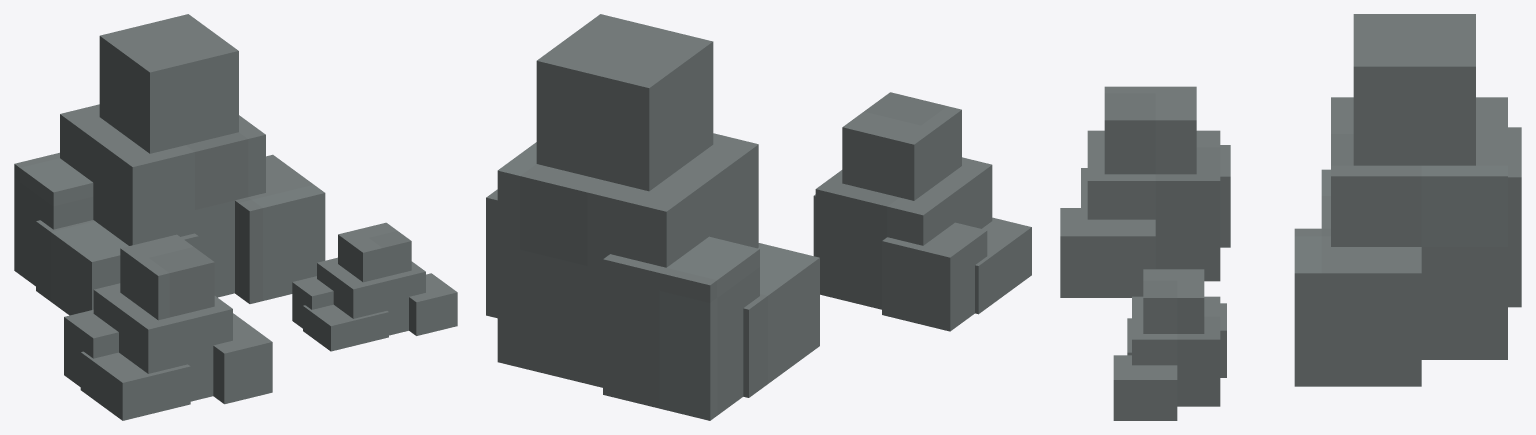
File: SM_VMF_Set_RockCluster.fbx
3 renders of one model, left to right at view 1: azimuth 30°, elevation 25°; view 2: azimuth 150°, elevation 25°; view 3: azimuth 270°, elevation 25°, orthographic. The views are drawn at different scales.
Visible parts, largest first — view 1: Cluster_SM_VMF_Nature_Rock_Large_Stone, Cluster_SM_VMF_Nature_Rock_Medium_Stone, Cluster_SM_VMF_Nature_Rock_Small_Stone; view 2: Cluster_SM_VMF_Nature_Rock_Large_Stone, Cluster_SM_VMF_Nature_Rock_Medium_Stone; view 3: Cluster_SM_VMF_Nature_Rock_Large_Stone, Cluster_SM_VMF_Nature_Rock_Medium_Stone, Cluster_SM_VMF_Nature_Rock_Small_Stone.
Boxes of the visible parts, x1=… form: Cluster_SM_VMF_Nature_Rock_Large_Stone: x1=14, y1=14, x2=325, y2=315; Cluster_SM_VMF_Nature_Rock_Medium_Stone: x1=64, y1=234, x2=272, y2=420; Cluster_SM_VMF_Nature_Rock_Small_Stone: x1=292, y1=222, x2=457, y2=351; Cluster_SM_VMF_Nature_Rock_Large_Stone: x1=486, y1=14, x2=819, y2=420; Cluster_SM_VMF_Nature_Rock_Medium_Stone: x1=813, y1=92, x2=1031, y2=331; Cluster_SM_VMF_Nature_Rock_Large_Stone: x1=1294, y1=14, x2=1521, y2=386; Cluster_SM_VMF_Nature_Rock_Medium_Stone: x1=1060, y1=86, x2=1230, y2=297; Cluster_SM_VMF_Nature_Rock_Small_Stone: x1=1113, y1=269, x2=1226, y2=420.
Bounding box in the file's own units: 138 × 88 × 130.
1 material, 1 textured.
